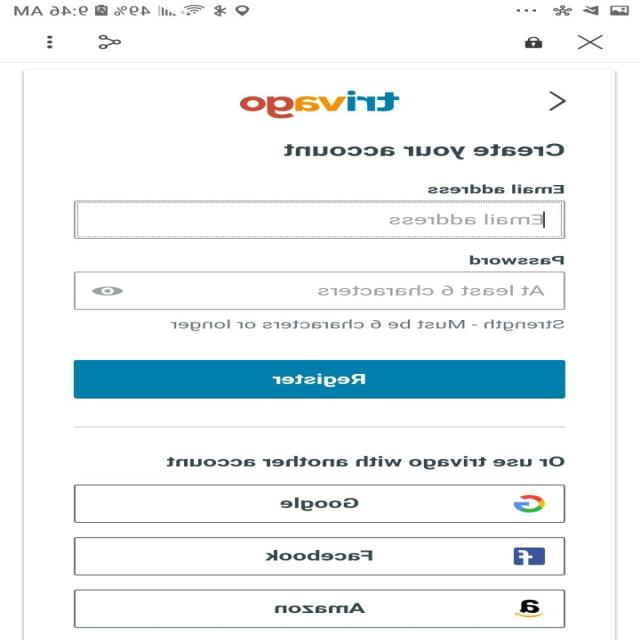EditText: (73, 271, 566, 310), (74, 200, 566, 239)
Icon: (576, 35, 604, 50), (548, 91, 568, 111), (98, 34, 122, 50), (92, 286, 126, 296), (524, 36, 544, 48), (47, 34, 53, 49)
Image: (240, 90, 400, 118)
Text: (167, 455, 565, 470), (284, 142, 566, 160), (170, 319, 566, 331), (318, 284, 544, 296), (389, 213, 543, 224), (428, 184, 564, 194), (470, 254, 564, 264)
TextButton: (73, 536, 566, 576), (74, 359, 566, 399), (73, 589, 566, 628), (73, 484, 566, 523)
